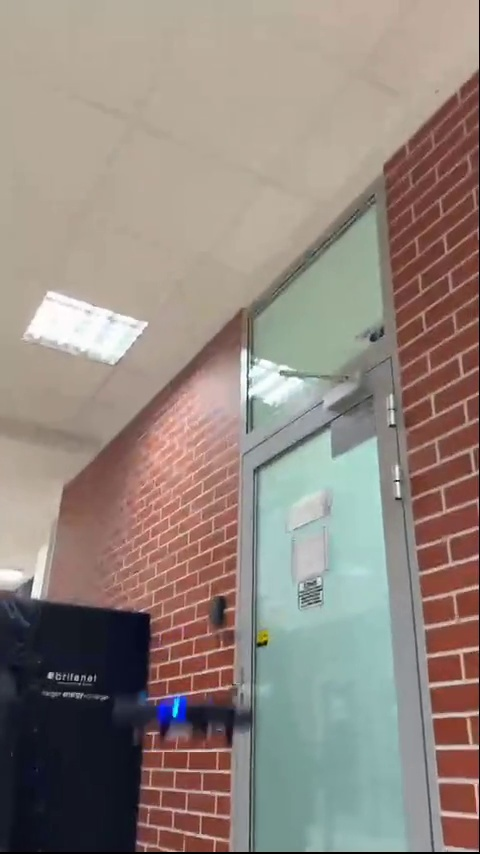drone: (113, 695, 256, 751)
